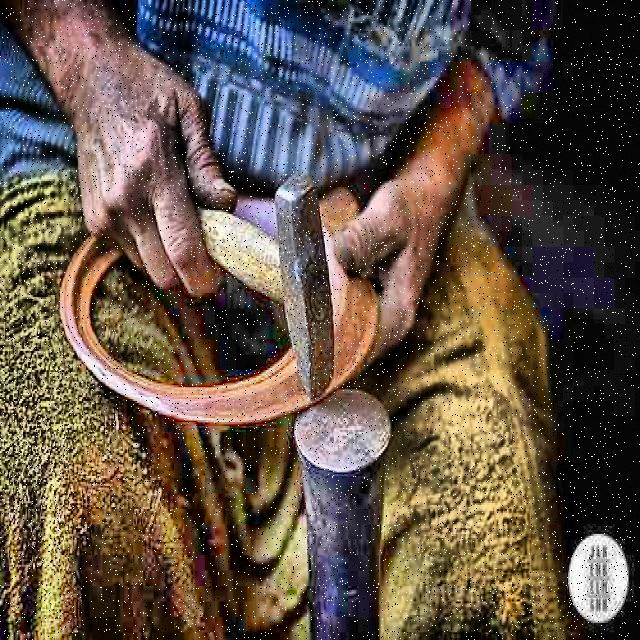hammer: (165, 173, 339, 399)
